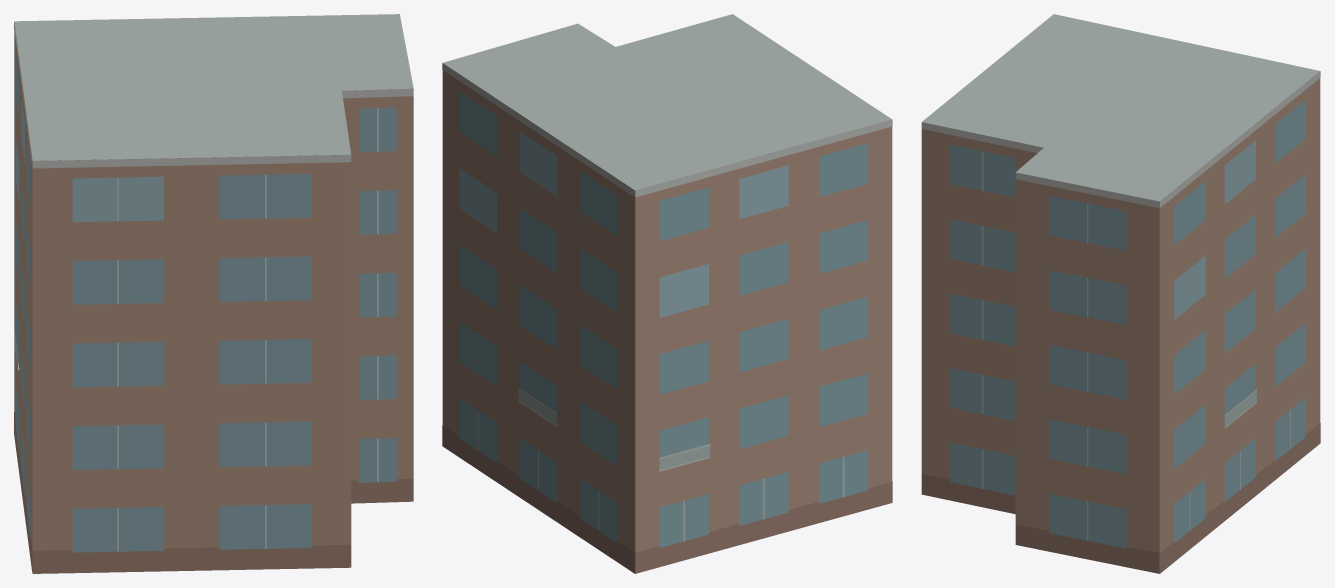
File: survey-upis-32892553.glb
The picture shows the model from 3 angles, left to right: view 1: azimuth 30°, elevation 25°; view 2: azimuth 150°, elevation 25°; view 3: azimuth 270°, elevation 25°; orthographic projection. The views are drawn at different scales.
Visible parts, largest first — view 1: survey-upis-32892553.tmp; view 2: survey-upis-32892553.tmp; view 3: survey-upis-32892553.tmp.
Part boxes in pixels (left/top/right/bottom): survey-upis-32892553.tmp: left=14, top=14, right=413, bottom=573; survey-upis-32892553.tmp: left=442, top=14, right=892, bottom=573; survey-upis-32892553.tmp: left=921, top=14, right=1320, bottom=573.
Bounding box in the file's own units: 14.48 × 13.4 × 13.01.
